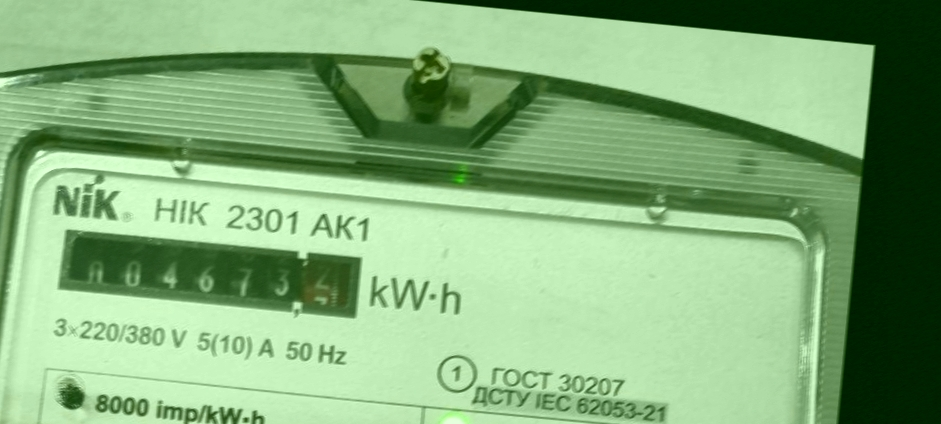0: (85, 254, 108, 286), (123, 256, 144, 288)
2: (312, 258, 335, 292)
3: (272, 263, 293, 299)
4: (160, 255, 182, 292)
6: (194, 259, 219, 295)
7: (232, 263, 257, 301)
screen: (53, 222, 368, 328)
